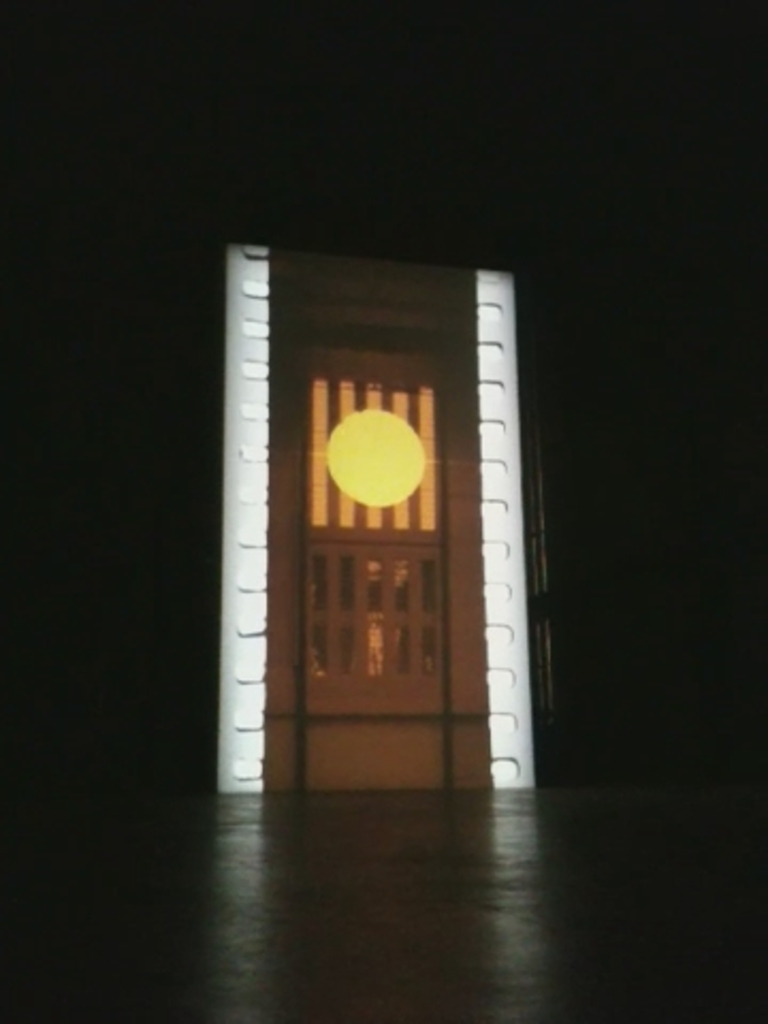Door: (254, 322, 484, 772)
